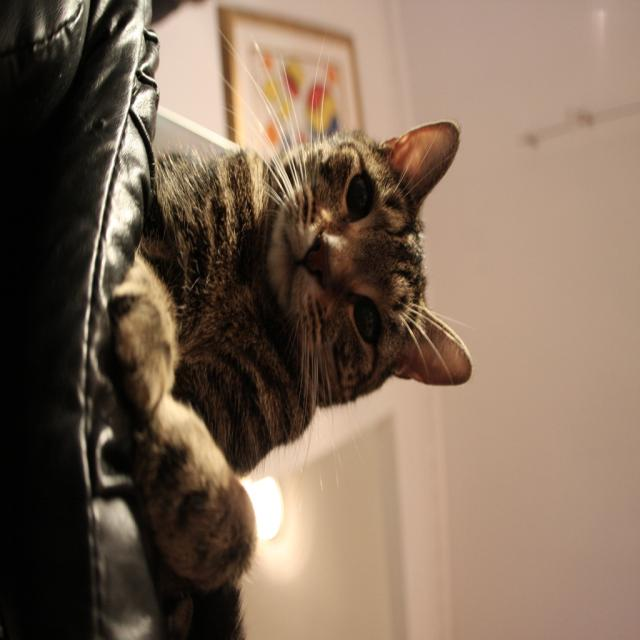Cat: (104, 22, 472, 638)
